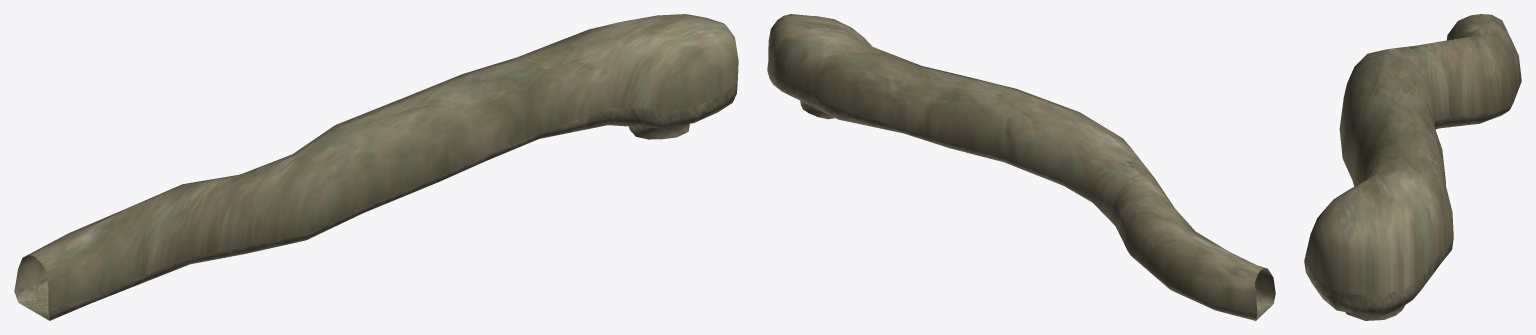
Rendered from EKH_GROTTO_PS_GR_LIB_CAVE_004.fbx.
3 views of the same model, side by side, from view 1: azimuth 30°, elevation 25°; view 2: azimuth 150°, elevation 25°; view 3: azimuth 270°, elevation 25° (orthographic). The views are drawn at different scales.
Visible parts, largest first — view 1: EKH_GROTTO_PS_GR_LIB_CAVE_004; view 2: EKH_GROTTO_PS_GR_LIB_CAVE_004; view 3: EKH_GROTTO_PS_GR_LIB_CAVE_004.
Part boxes in pixels (x1,y1,x2,y2): EKH_GROTTO_PS_GR_LIB_CAVE_004: [14, 14, 738, 320]; EKH_GROTTO_PS_GR_LIB_CAVE_004: [767, 14, 1275, 320]; EKH_GROTTO_PS_GR_LIB_CAVE_004: [1304, 14, 1521, 320].
Size of the model in its own units: 257762 by 66755 by 65895.
1 material, 1 textured.
